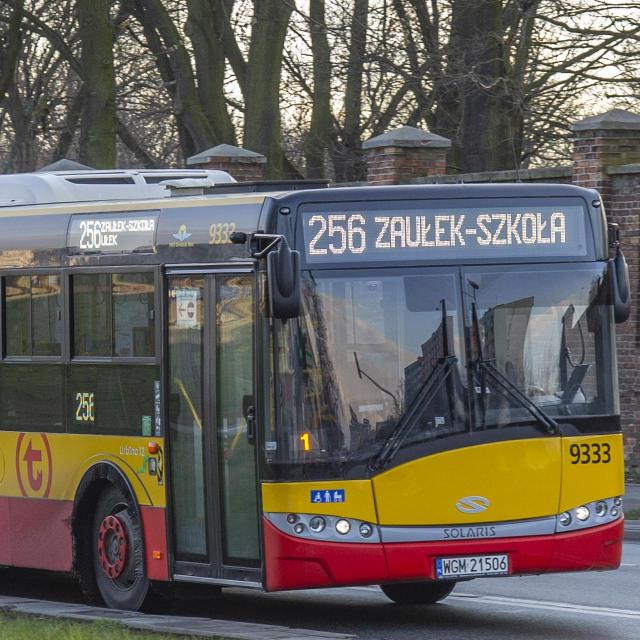Bus: (0, 170, 632, 611)
